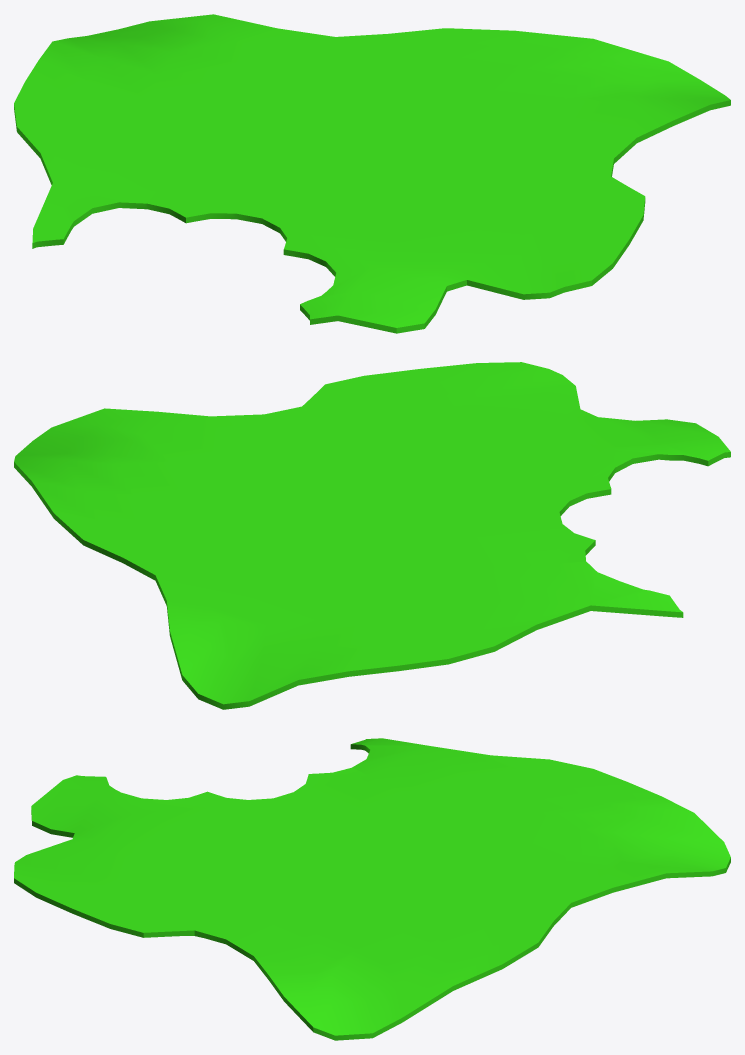
File: salad_1.fbx
The picture shows the model from 3 angles, top to bottom: view 1: azimuth 30°, elevation 25°; view 2: azimuth 150°, elevation 25°; view 3: azimuth 270°, elevation 25°; orthographic projection. The views are drawn at different scales.
Parts seen in each view (by area): view 1: Salad_0.001; view 2: Salad_0.001; view 3: Salad_0.001.
Boxes of the visible parts, bbox=[...] form: Salad_0.001: bbox=[14, 14, 730, 333]; Salad_0.001: bbox=[14, 362, 730, 709]; Salad_0.001: bbox=[14, 738, 730, 1040].
Bounding box in the file's own units: 292 × 13.1 × 302.
